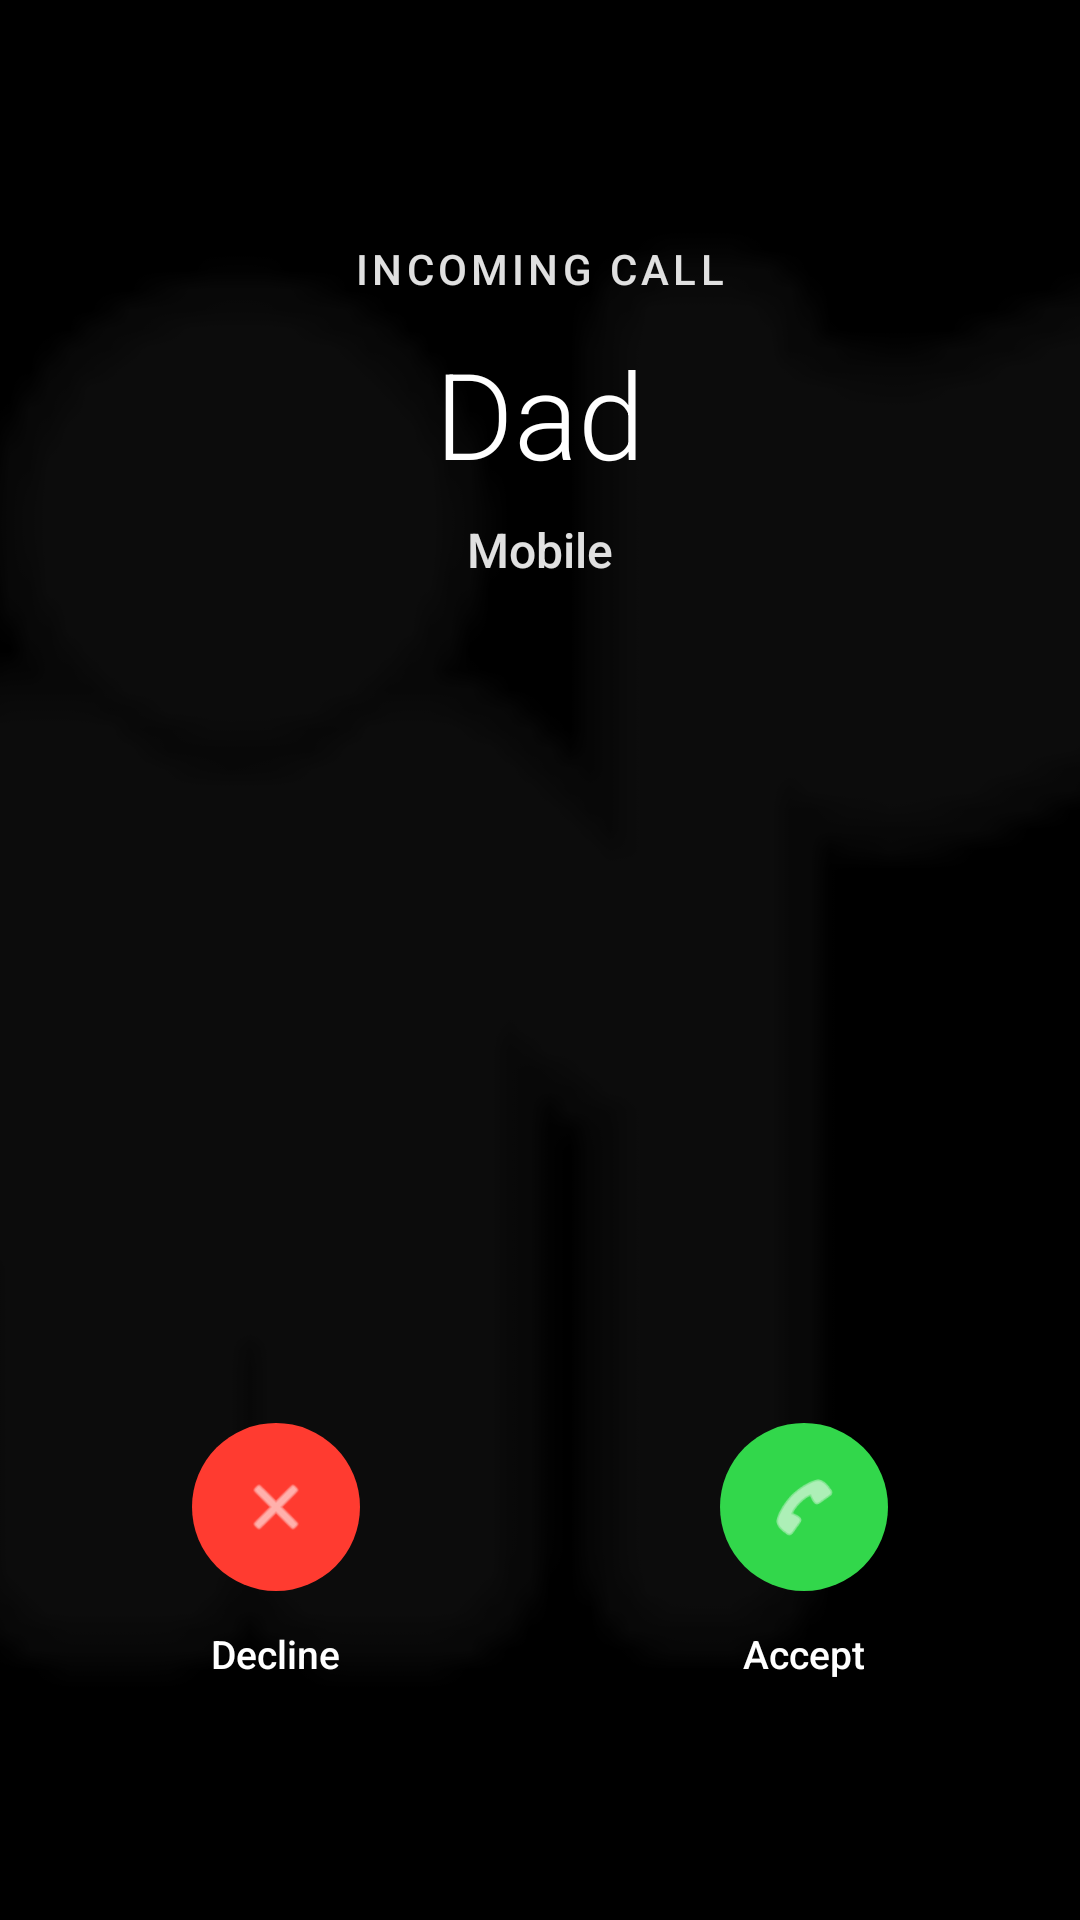

Where to tap for icons on this 1080px x 1920px app screen, as (x,y):
call: (804,1507)
close clear cancel: (276,1507)
